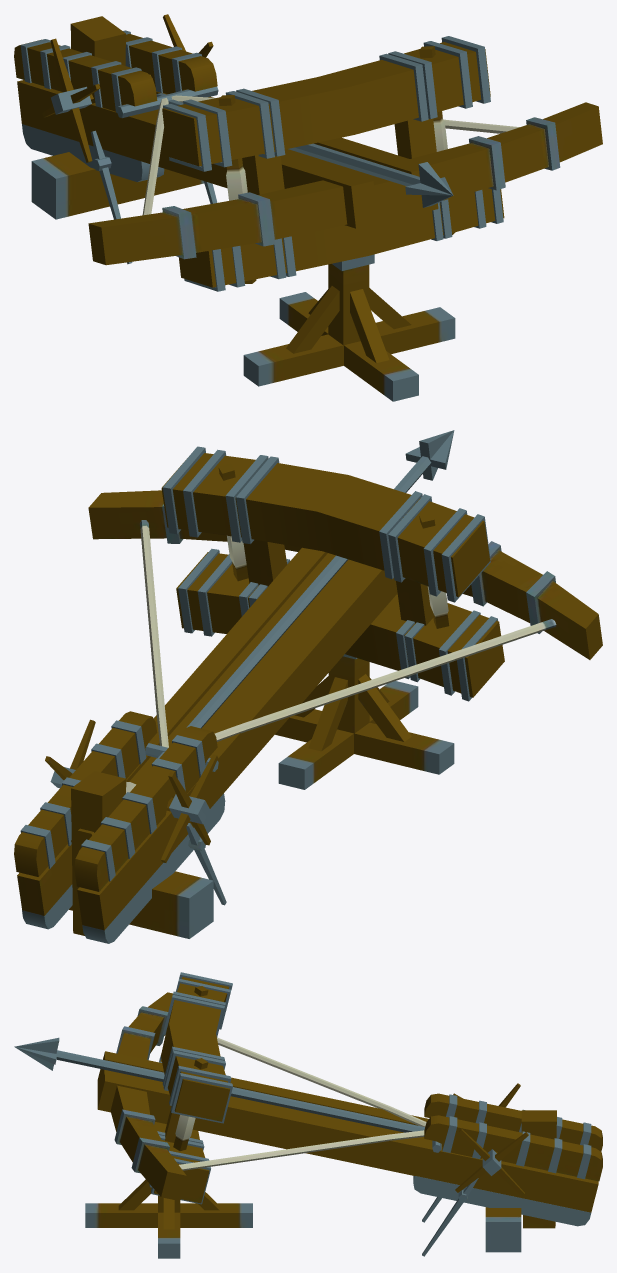
File: ballista.glb
The picture shows the model from 3 angles, top to bottom: view 1: azimuth 30°, elevation 25°; view 2: azimuth 150°, elevation 25°; view 3: azimuth 270°, elevation 25°; orthographic projection. The views are drawn at different scales.
Visible parts, largest first — view 1: Ballista_Scale; view 2: Ballista_Scale; view 3: Ballista_Scale.
Part boxes in pixels (x1,y1,x2,y2): Ballista_Scale: [14, 14, 602, 401]; Ballista_Scale: [14, 430, 602, 943]; Ballista_Scale: [14, 972, 602, 1258].
Size of the model in its own units: 1.44 by 0.8143 by 2.
1 material, 1 textured.
